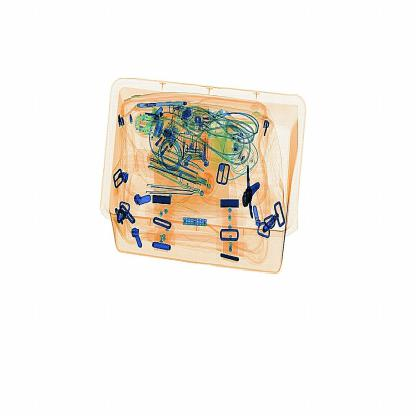wrench: (241, 158, 265, 217)
